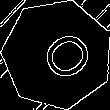O_SW: (23, 22, 91, 87)
